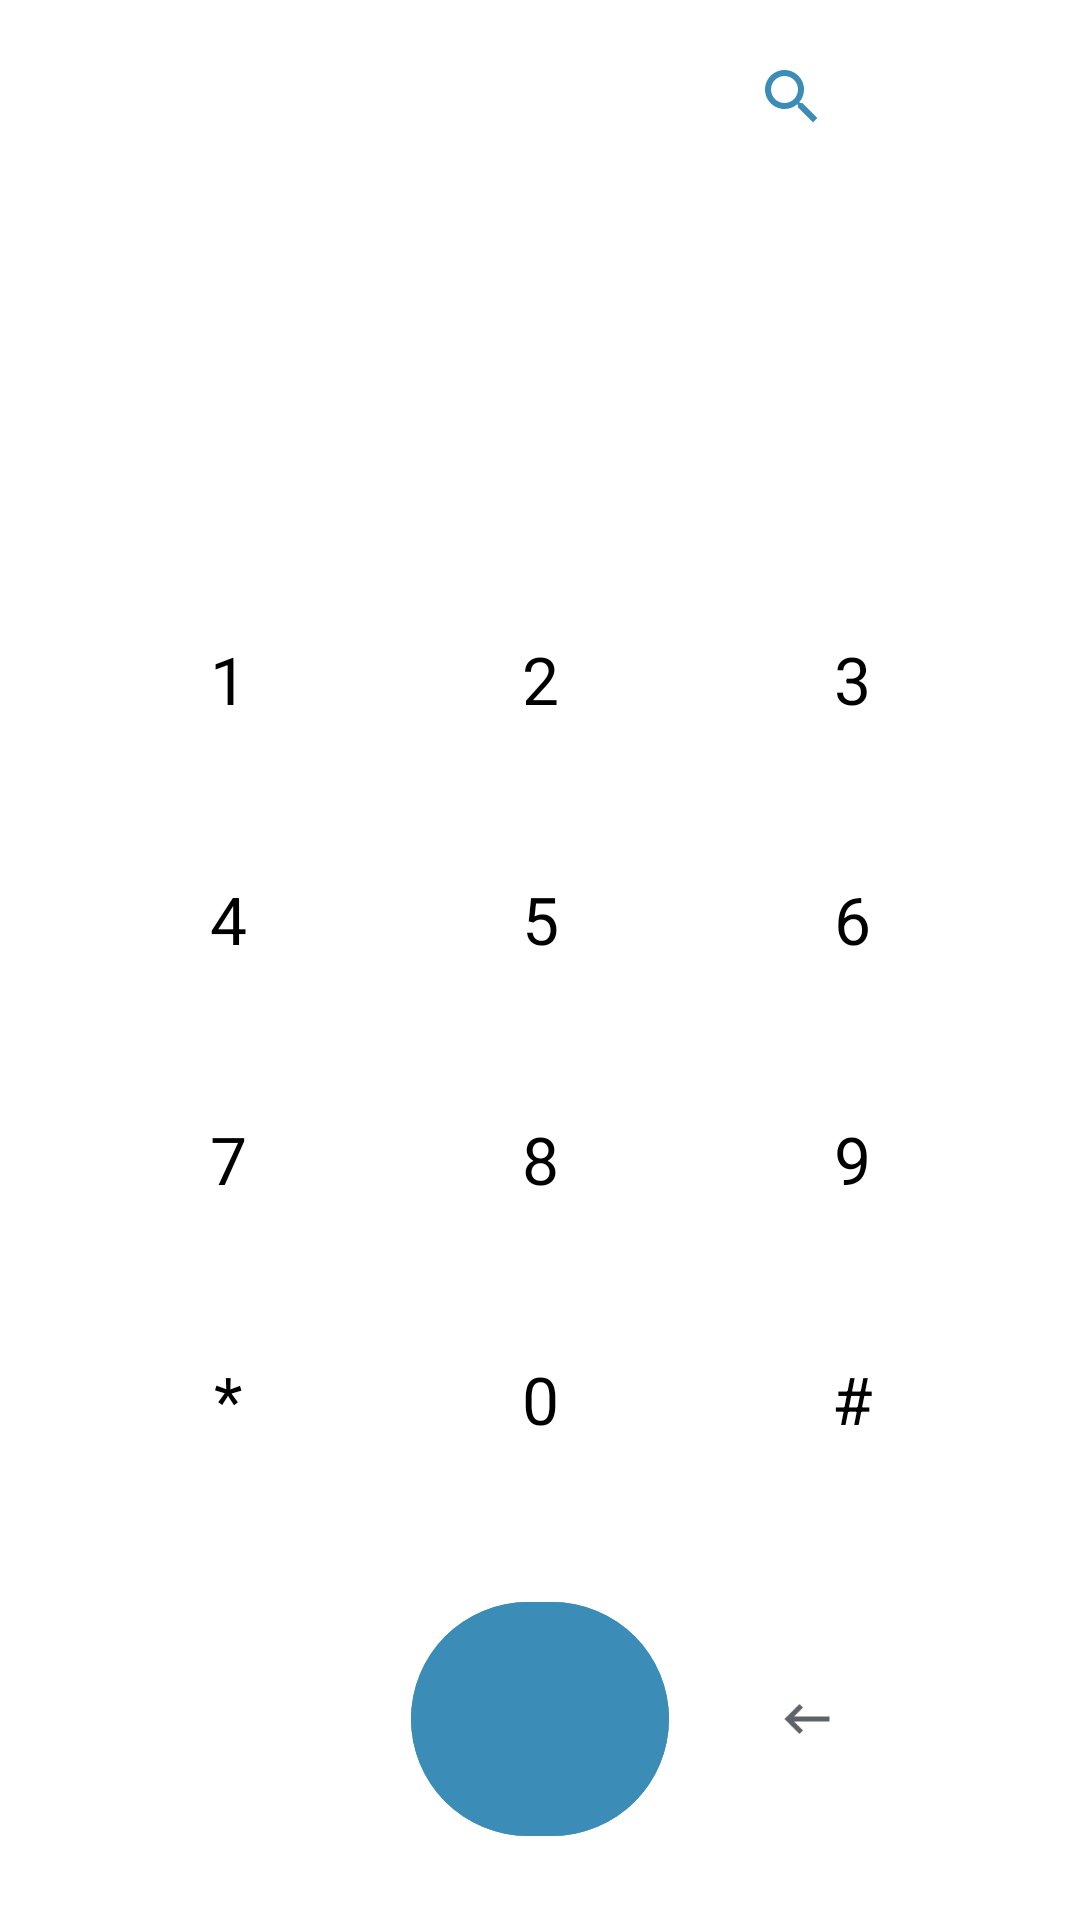

Locate icon controls on the screen. Image size 1080w x 1920h, boxes as rect(x1, y1, x2, y2).
backspace: rect(784, 1704, 830, 1734)
search: rect(765, 70, 817, 122)
